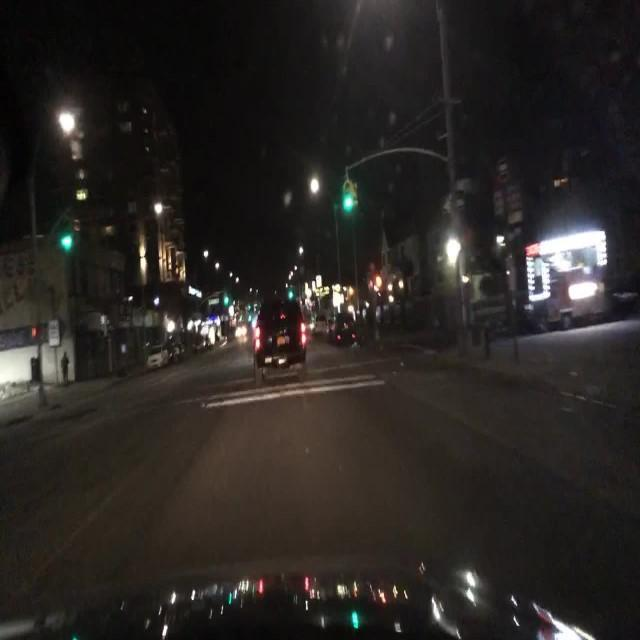normal: (200, 275, 380, 407)
